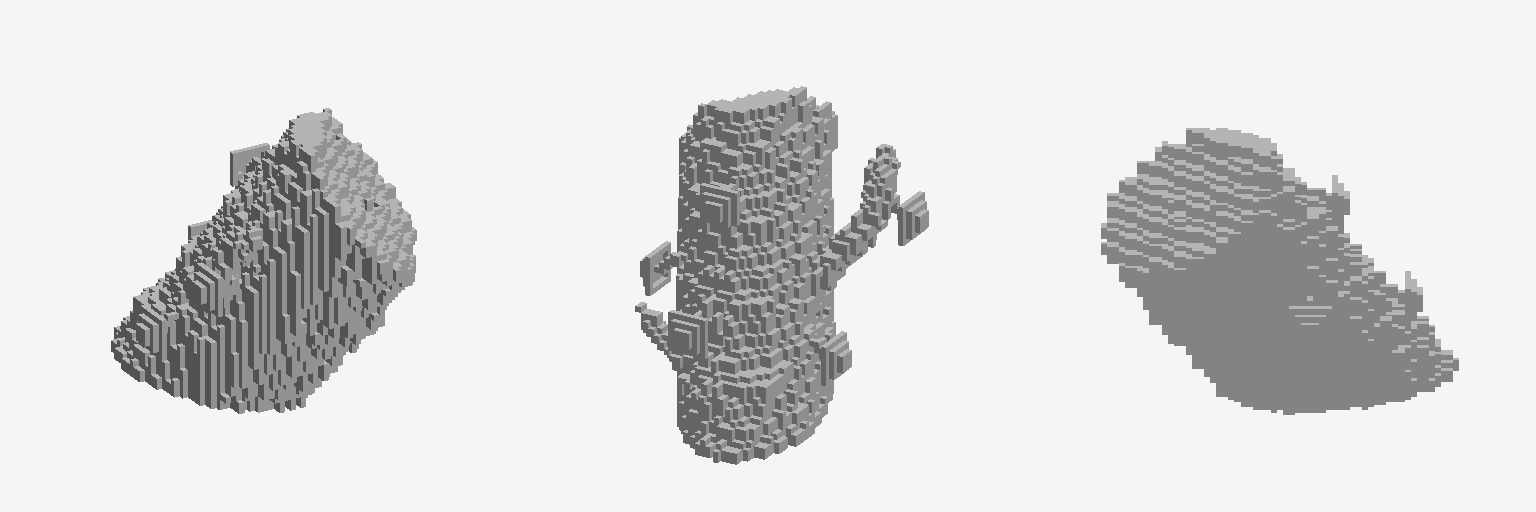
The model's file is Mycena Cyanocephala-dying 5 of 5.obj.
3 views of the same model, side by side, from view 1: azimuth 30°, elevation 25°; view 2: azimuth 150°, elevation 25°; view 3: azimuth 270°, elevation 25° (orthographic).
Parts seen in each view (by area): view 1: object 1; view 2: object 1; view 3: object 1.
Boxes of the visible parts, <box> form: object 1: <box>111,108,416,413</box>; object 1: <box>635,86,928,464</box>; object 1: <box>1101,128,1458,414</box>.
Size of the model in its own units: 4.1 by 4.8 by 5.9.